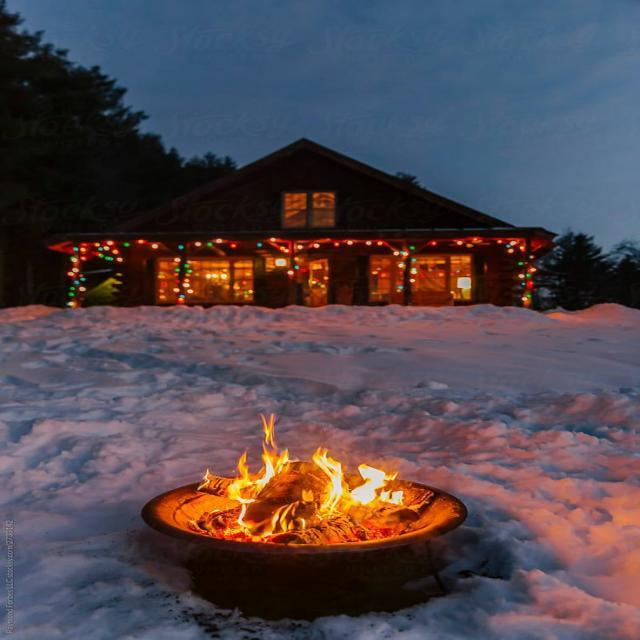Fire: (178, 425, 471, 562), (143, 224, 542, 324)
